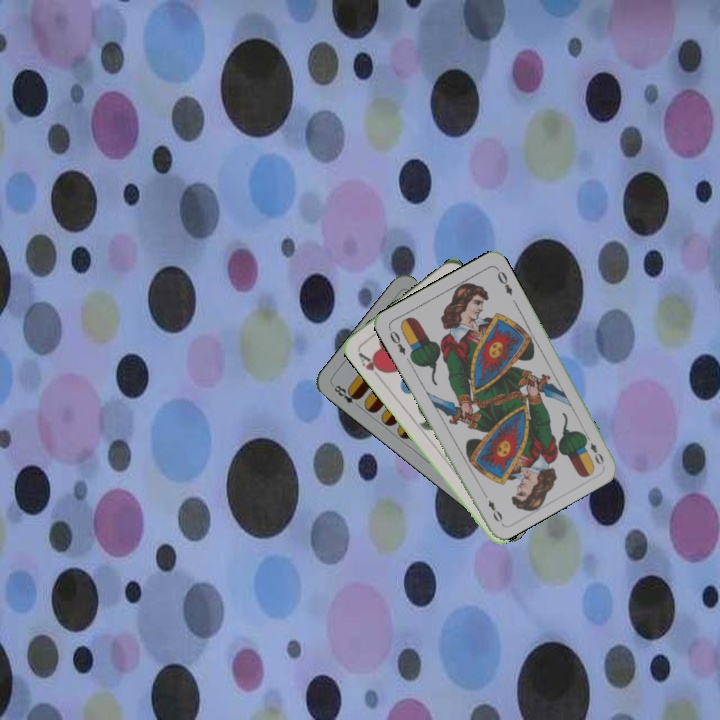E8: (329, 381, 362, 411)
EO: (580, 430, 607, 467), (385, 324, 408, 357)
HA: (354, 348, 388, 382)
